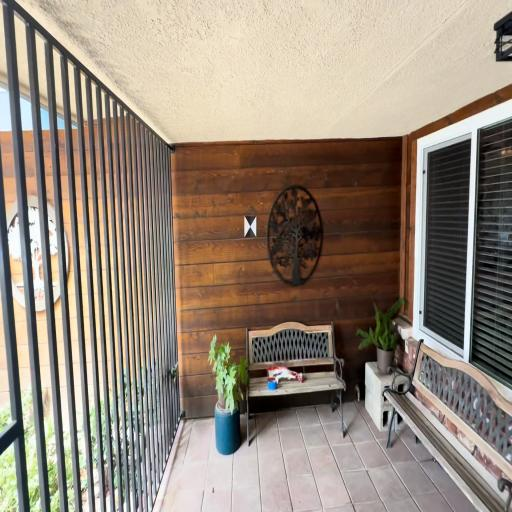target: (244, 215, 256, 238)
